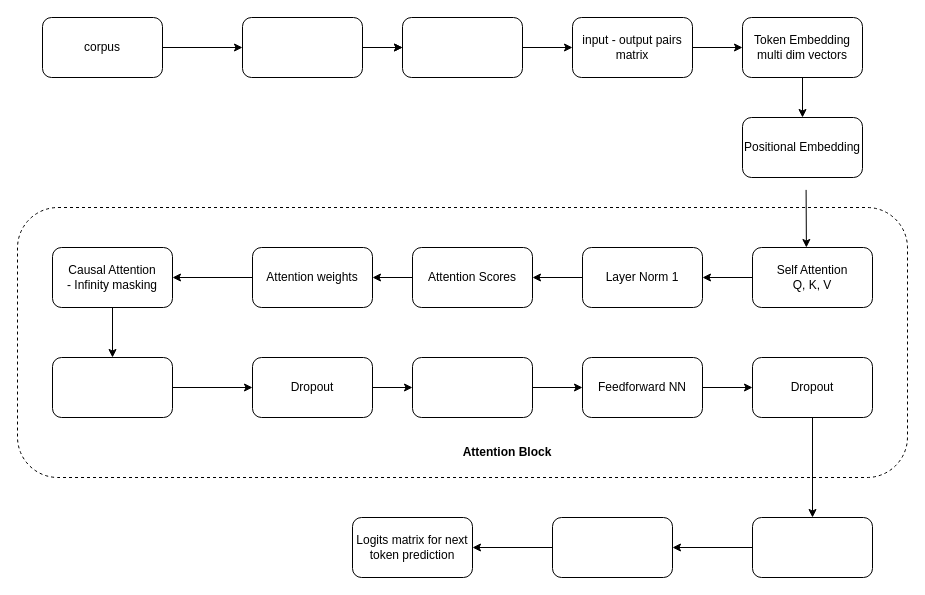
Image size: 925x595. Some labels were removed from this diagram. The centre of each missing label's shape, as x and y in pixels:
Final Layer Norm: pixel 812 547
Layer Norm 2: pixel 472 387
Masked Multi-head attention: pixel 112 387
Output Laye: pixel 612 547
sub-word tokenization BPE: pixel 302 47
Token IDs: pixel 462 47
